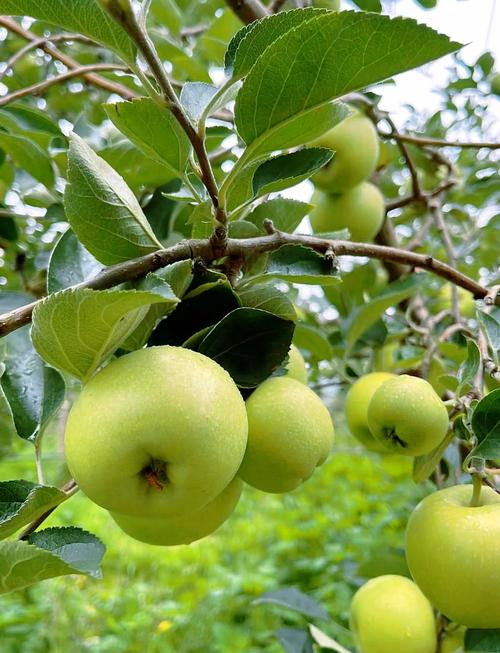unripe: (58, 335, 253, 526), (398, 470, 500, 640), (232, 371, 340, 503), (343, 568, 443, 653), (365, 368, 455, 458), (297, 100, 385, 190), (302, 180, 396, 248)
